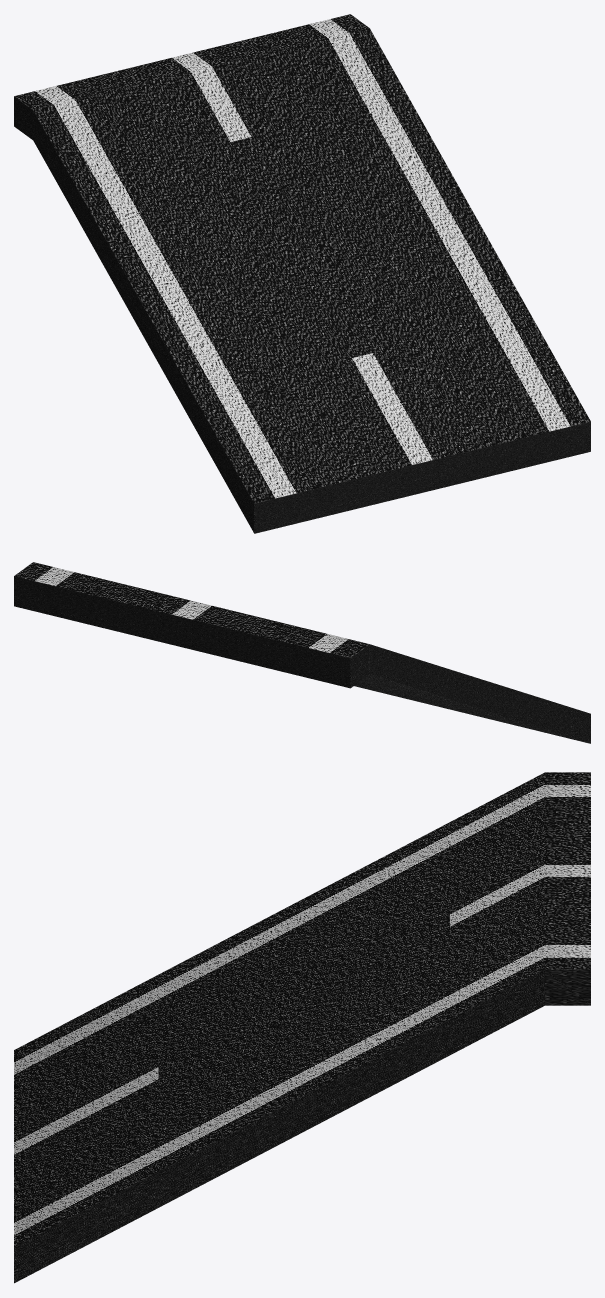
Rendered from road_slope01.FBX.
3 views of the same model, one above another, from view 1: azimuth 30°, elevation 25°; view 2: azimuth 150°, elevation 25°; view 3: azimuth 270°, elevation 25° (orthographic). The views are drawn at different scales.
Visible parts, largest first — view 1: Box026; view 2: Box026; view 3: Box026.
Boxes of the visible parts, x1,y1,x2,y2 form: Box026: (14,14,590,533); Box026: (14,562,590,743); Box026: (14,772,590,1283).
Size of the model in its own units: 173 by 214 by 128.
2 materials, 2 textured.
